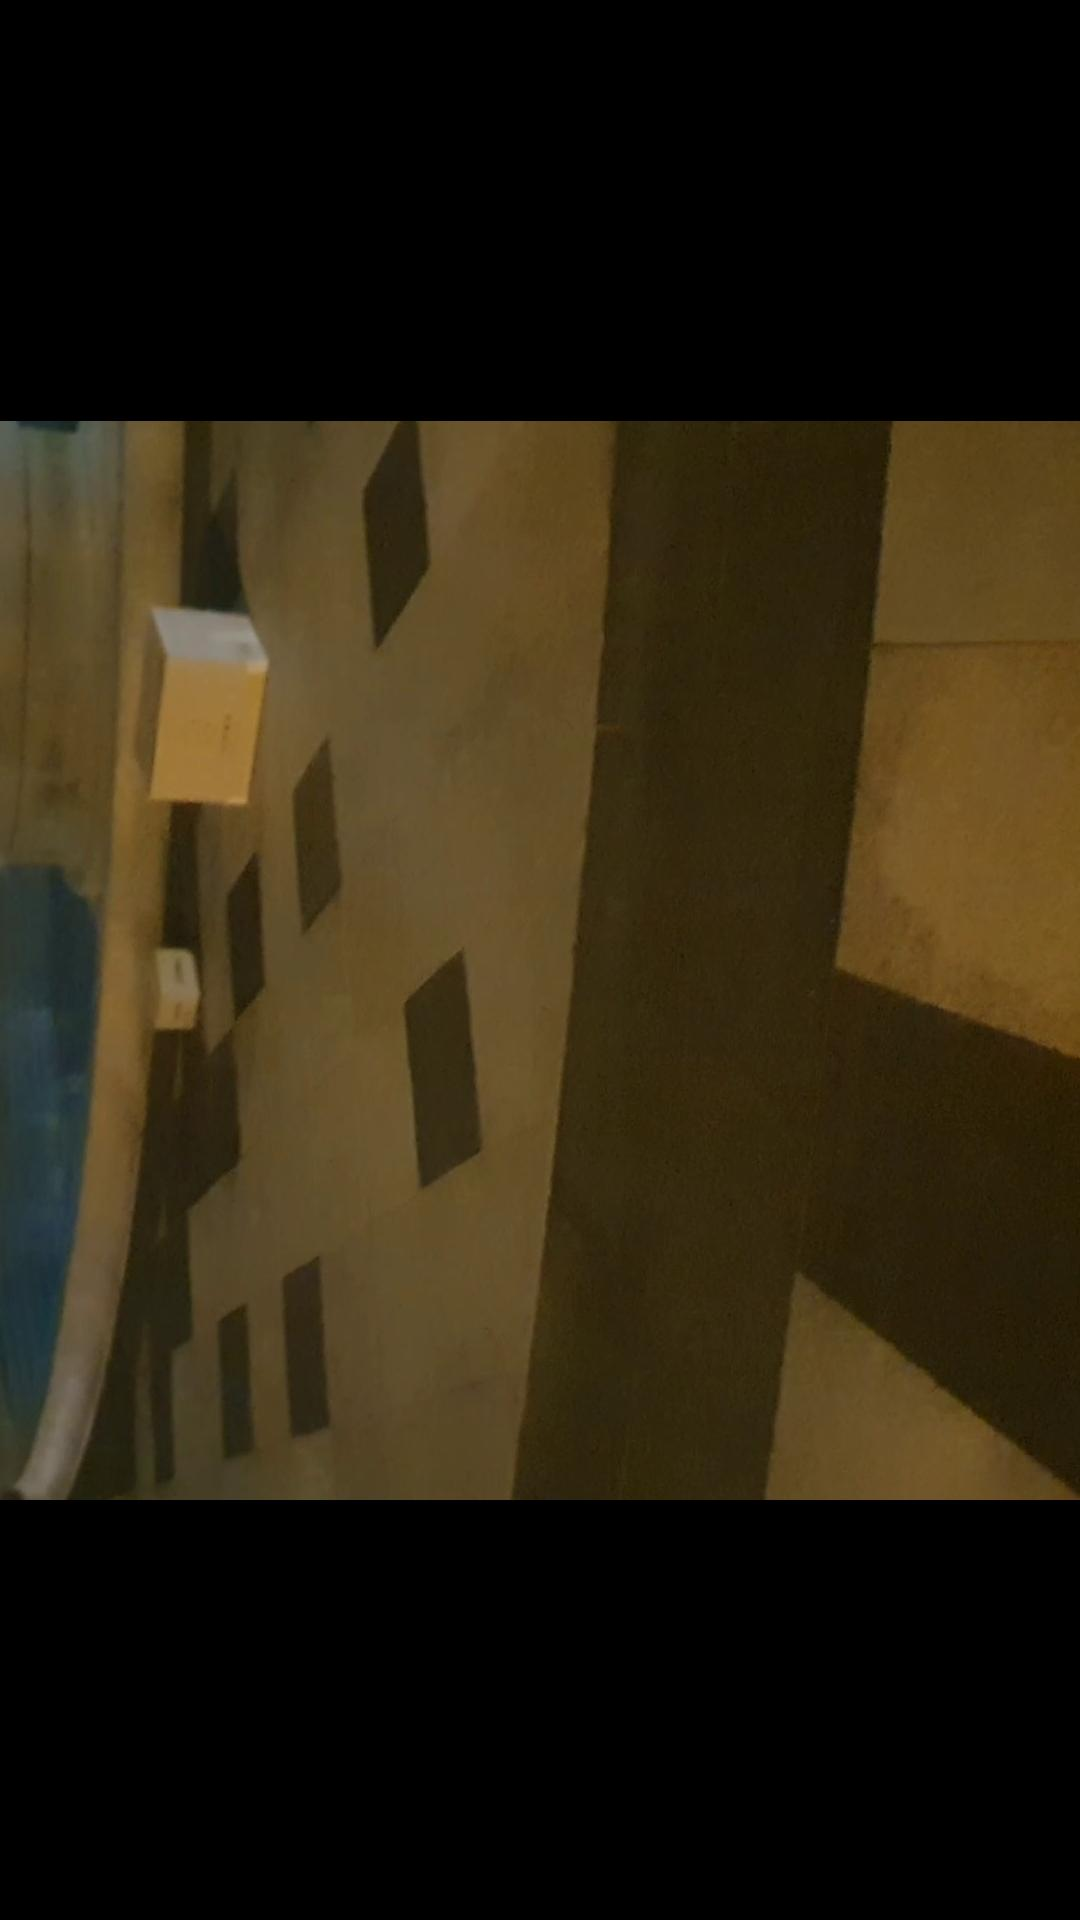Box: (131, 597, 280, 819), (131, 924, 220, 1048)
